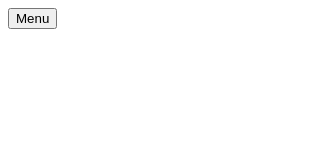
Test: DropdownMenu › opens menu when trigger is clicked (via user-event for pointer-event simulation)
This screenshot has width=320, height=168.
Click the button "Menu".
click(33, 18)  # box [8,8,57,29]
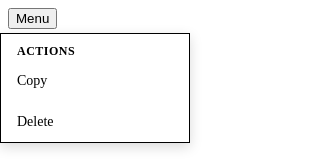
expect the menu item "Copy" is shown: met, box [17,73,47,88]
